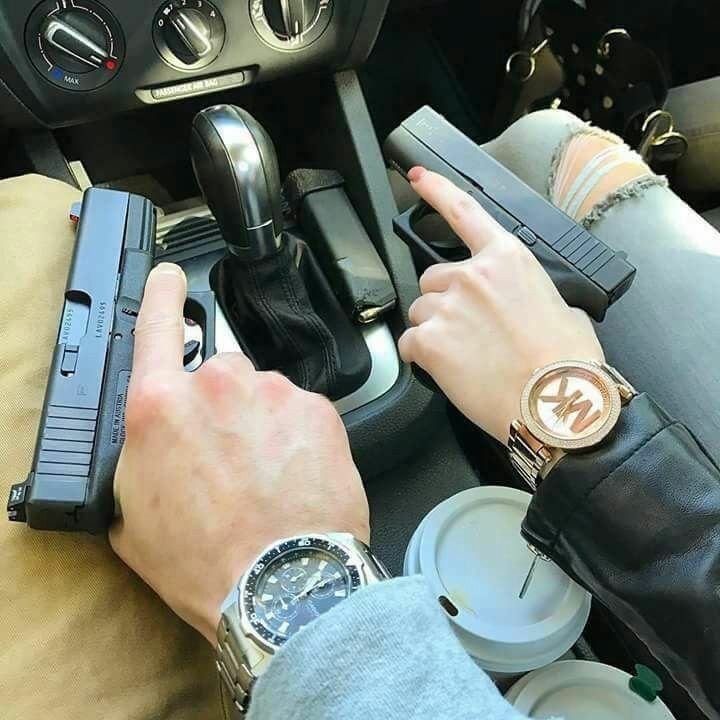gun: (7, 178, 228, 544), (378, 96, 643, 394)
